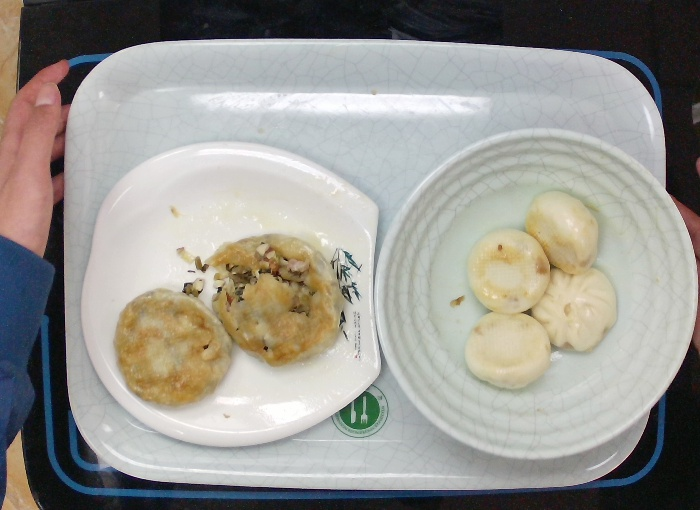JYsf-Da_Tang_Wan: (367, 119, 697, 467)
JYsf-Mian_Pan: (80, 134, 382, 455)
